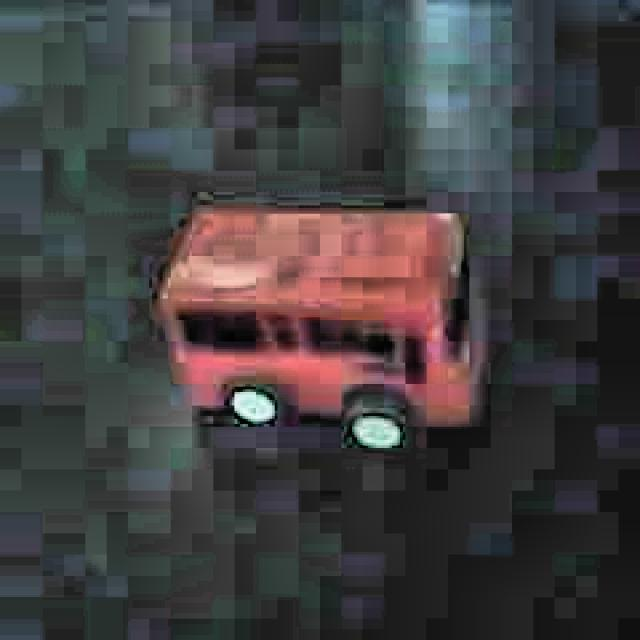bus: (149, 188, 496, 464)
